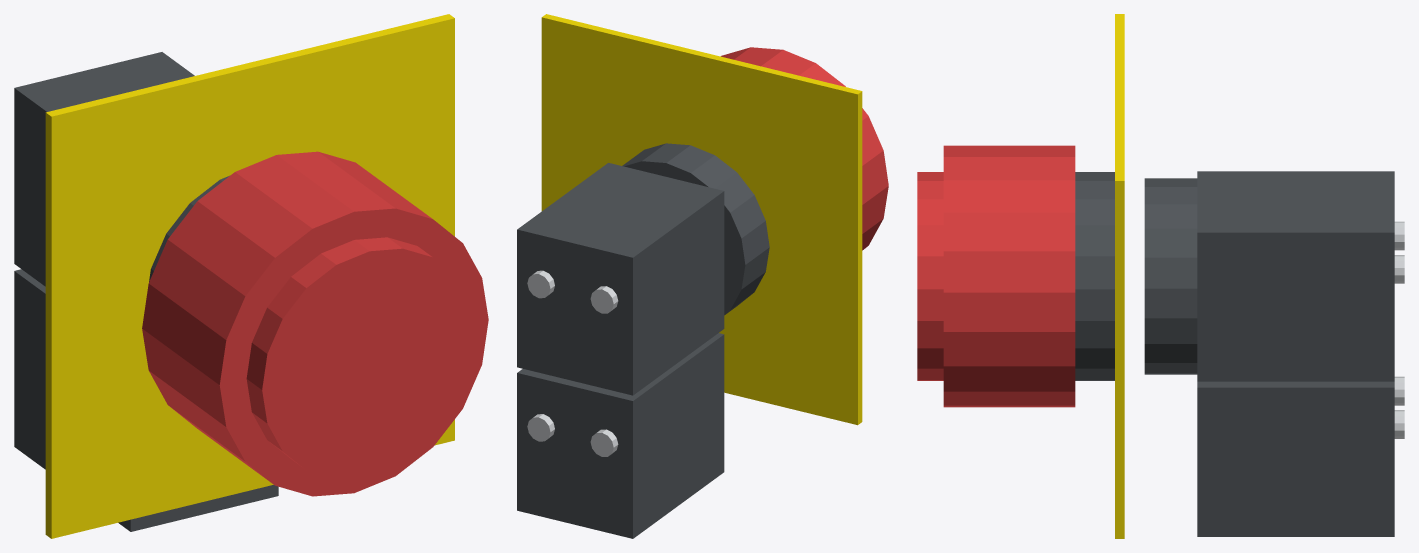
Rendered from op-estop-22-2nc.glb.
The picture shows the model from 3 angles, left to right: view 1: azimuth 30°, elevation 25°; view 2: azimuth 150°, elevation 25°; view 3: azimuth 270°, elevation 25°; orthographic projection. The views are drawn at different scales.
Parts seen in each view (by area): view 1: body, self; view 2: body, self; view 3: body, self.
Boxes of the visible parts, x1,y1,x2,y2 form: body: [14, 14, 454, 538]; self: [142, 151, 488, 496]; body: [517, 14, 862, 538]; self: [721, 47, 888, 250]; body: [1075, 14, 1404, 538]; self: [917, 145, 1075, 407].
Size of what is drawn, in the model's own units: 0.06 by 0.0685 by 0.074.
